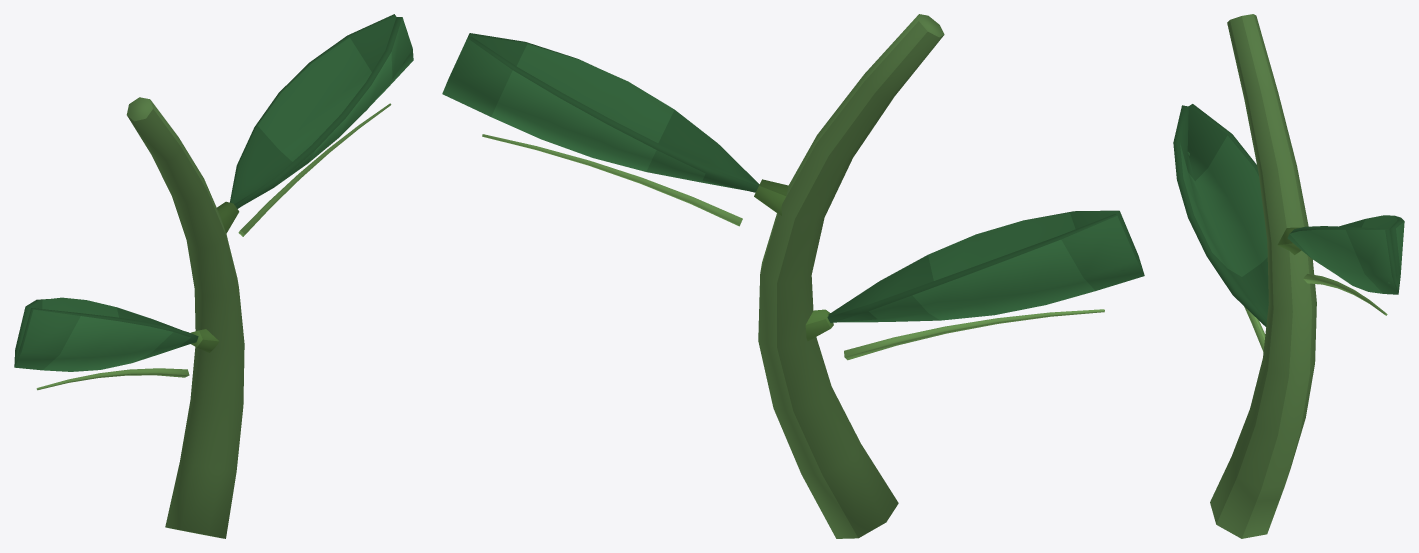
The model's file is garden-tulip-sprout-stem-3.glb.
The picture shows the model from 3 angles, left to right: view 1: azimuth 30°, elevation 25°; view 2: azimuth 150°, elevation 25°; view 3: azimuth 270°, elevation 25°; orthographic projection. The views are drawn at different scales.
Parts seen in each view (by area): view 1: tulip-sprout-stem-3; view 2: tulip-sprout-stem-3; view 3: tulip-sprout-stem-3.
Part boxes in pixels (left/top/right/bottom): tulip-sprout-stem-3: left=14, top=14, right=413, bottom=538; tulip-sprout-stem-3: left=442, top=14, right=1144, bottom=538; tulip-sprout-stem-3: left=1173, top=14, right=1404, bottom=538.
Size of the model in its own units: 0.1277 by 0.1112 by 0.0478.
